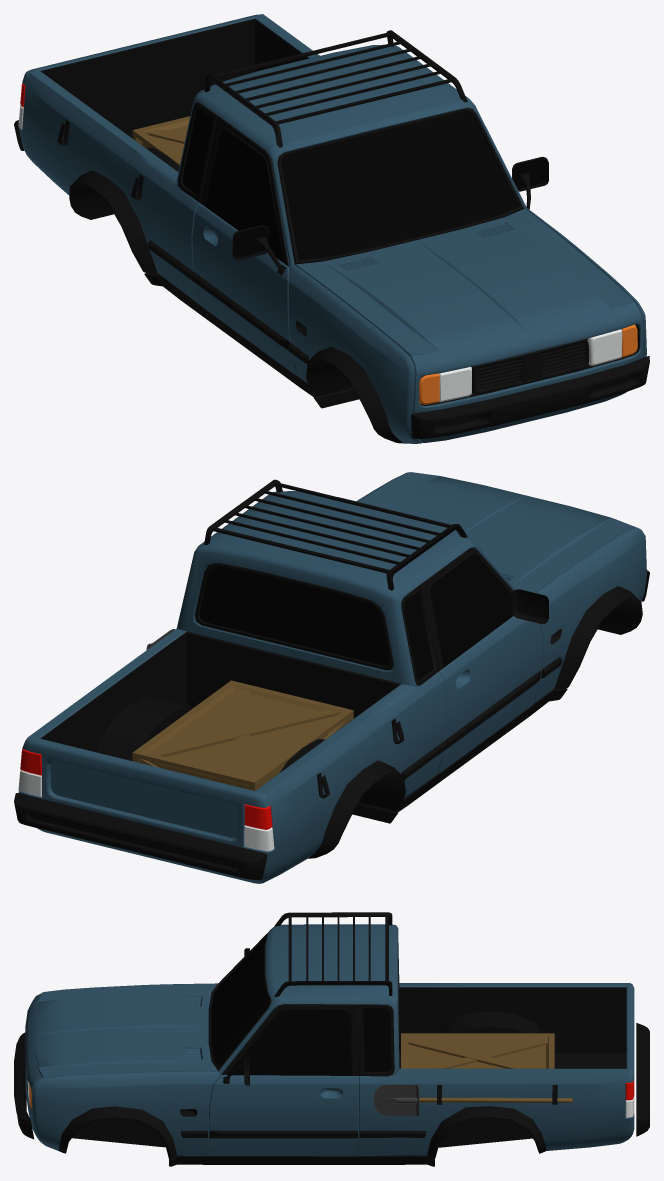
Rendered from car.fbx.
The picture shows the model from 3 angles, top to bottom: view 1: azimuth 30°, elevation 25°; view 2: azimuth 150°, elevation 25°; view 3: azimuth 270°, elevation 25°; orthographic projection. The views are drawn at different scales.
Visible parts, largest first — view 1: Cube.005, Cube.004, Cube.009, Cube.006, Cube.001, Cube.008; view 2: Cube.005, Cube.004, Cube.009, Cube.001, Cube.006, Cube.007; view 3: Cube.005, Cube.004, Cube.009, Cube.001, Cube.
Boxes of the visible parts, x1,y1,x2,y2 form: Cube.005: (18, 14, 646, 443); Cube.004: (14, 18, 649, 443); Cube.009: (183, 109, 546, 262); Cube.006: (18, 105, 622, 402); Cube.001: (132, 116, 190, 165); Cube.008: (419, 324, 637, 404); Cube.005: (18, 472, 646, 883); Cube.004: (14, 479, 649, 880); Cube.009: (199, 555, 516, 679); Cube.001: (132, 680, 353, 790); Cube.006: (18, 770, 274, 851); Cube.007: (20, 749, 272, 829); Cube.005: (25, 924, 634, 1156); Cube.004: (14, 912, 649, 1166); Cube.009: (211, 938, 390, 1075); Cube.001: (401, 1033, 572, 1102); Cube: (374, 1084, 419, 1115).
Bounding box in the file's own units: 1.12 × 0.7668 × 2.53.
